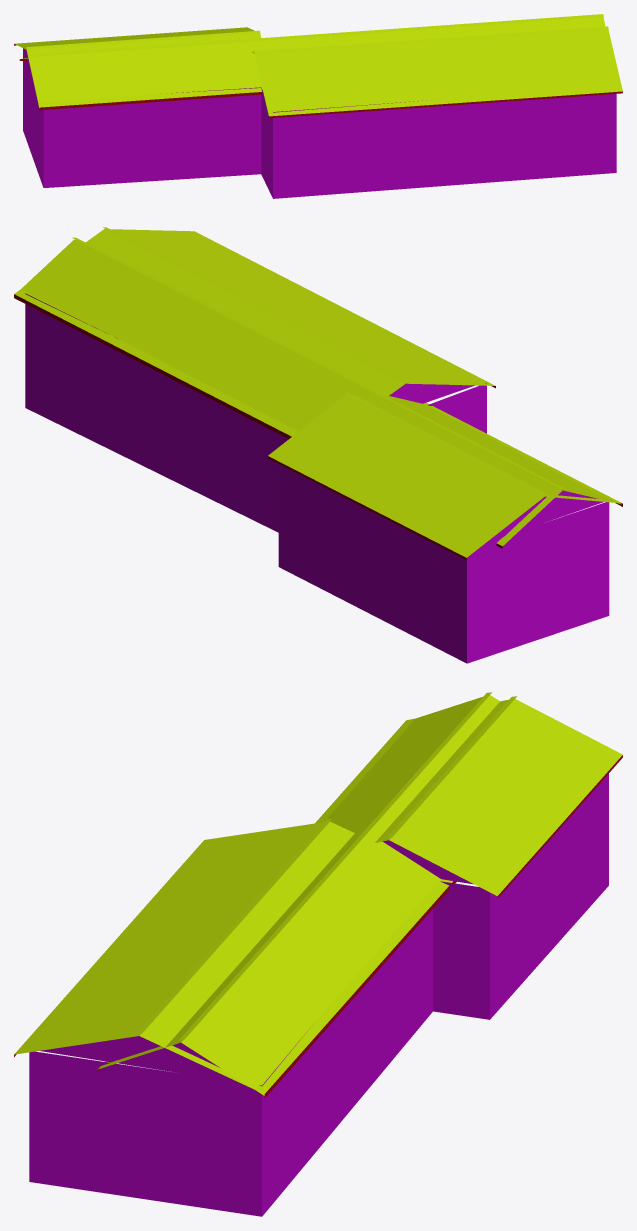
File: ssv_51.glb
The picture shows the model from 3 angles, top to bottom: view 1: azimuth 30°, elevation 25°; view 2: azimuth 150°, elevation 25°; view 3: azimuth 270°, elevation 25°; orthographic projection. The views are drawn at different scales.
Parts seen in each view (by area): view 1: ssv_51; view 2: ssv_51; view 3: ssv_51.
Boxes of the visible parts, box(x1,y1,x2,y2) form: ssv_51: box(14, 14, 622, 198); ssv_51: box(14, 227, 622, 663); ssv_51: box(14, 692, 622, 1216).
Bounding box in the file's own units: 33.95 × 7.17 × 23.33.
